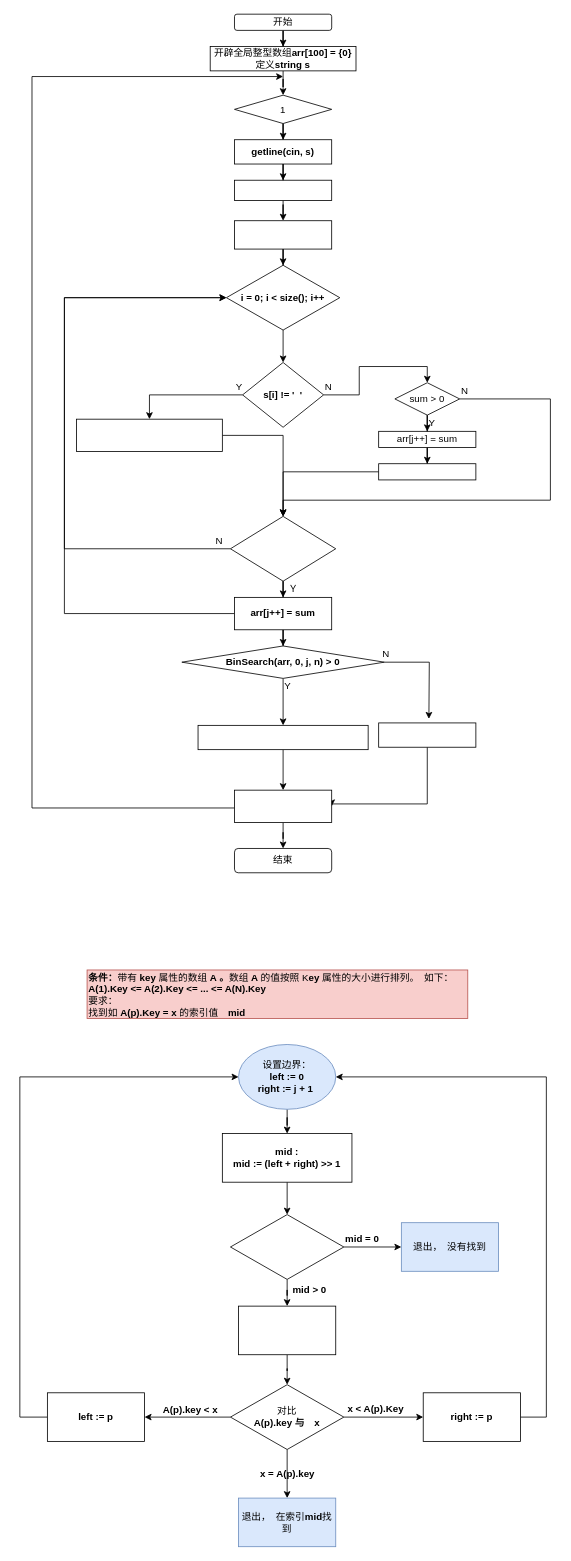
This 571x1561 diagram has some shape labels left out. Here are the shapes that lost their labels. From the top down, the centre of each, then its label:
point (283, 189): 输入 n
point (283, 234): j = 0, sum = 0
point (149, 435): sum = sum * 10 + s[i] - '0'
point (427, 471): sum = 0
point (283, 548): i = = s.size() - 1
point (282, 737): 输出 "Yes" 和 BinSearch (arr, 0, j, n)
point (427, 734): 输出 "No"
point (283, 806): cin.ignore()
point (287, 1246): 查询是否完成
point (287, 1330): mid := left + right
